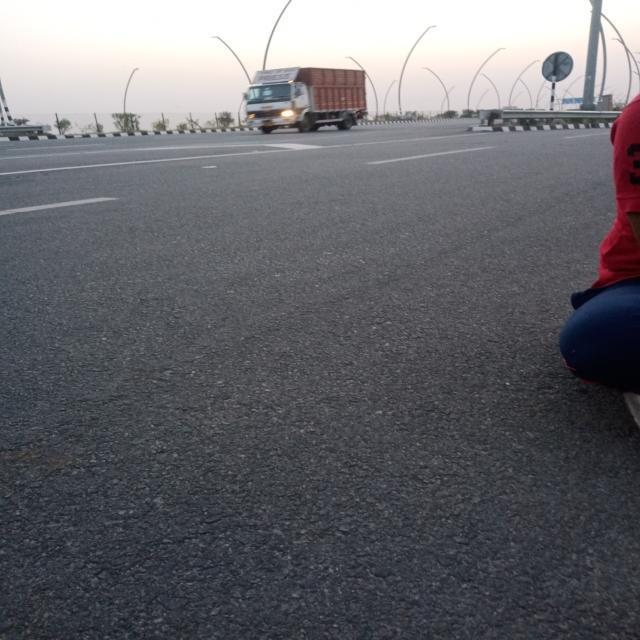truck_front: (238, 62, 372, 138)
